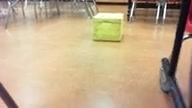cube: (92, 13, 123, 41)
